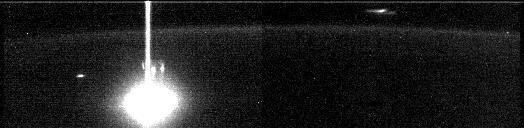positive: (150, 60, 165, 81)
